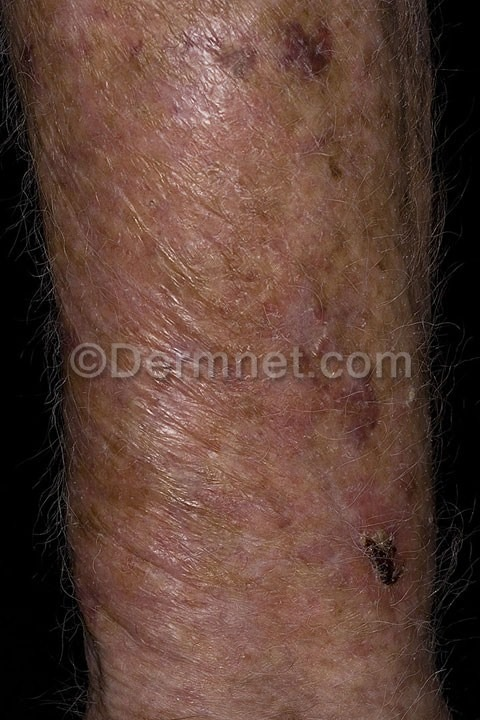Melasma: (28, 378, 480, 720), (26, 0, 479, 340)
